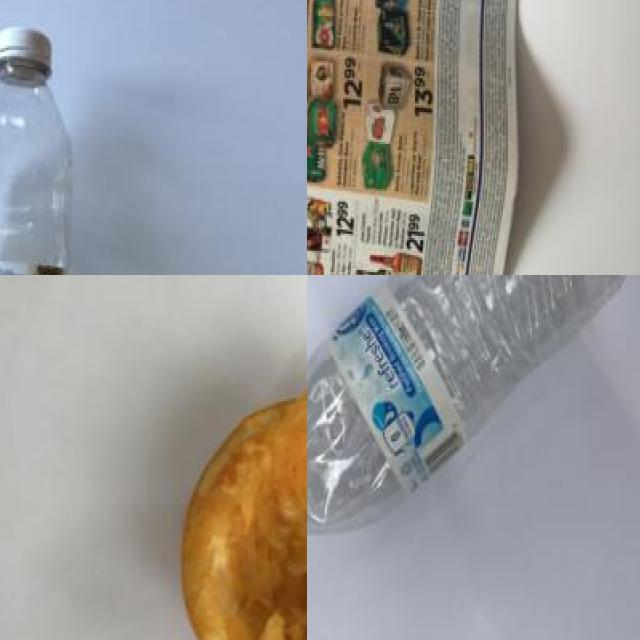compost: (163, 376, 307, 640)
paper: (307, 0, 529, 275)
plastic: (307, 275, 633, 574), (0, 14, 91, 275)
